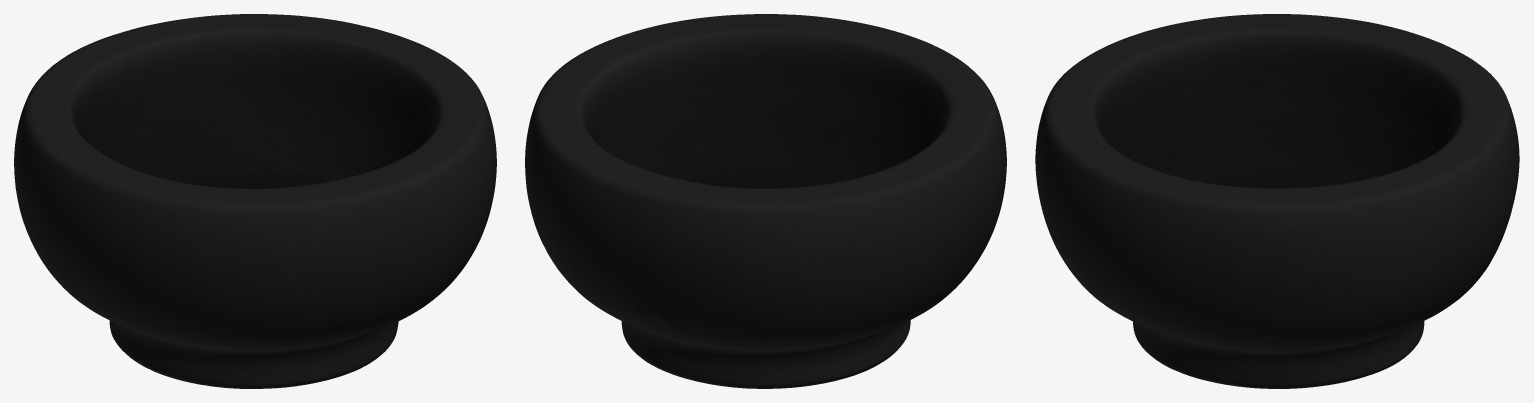
The model's file is lod_basic_pbr.fbx.
The picture shows the model from 3 angles, left to right: view 1: azimuth 30°, elevation 25°; view 2: azimuth 150°, elevation 25°; view 3: azimuth 270°, elevation 25°; orthographic projection.
Visible parts, largest first — view 1: model_LOD0; view 2: model_LOD0; view 3: model_LOD0.
Boxes of the visible parts, <box> form: model_LOD0: <box>14,14,496,388</box>; model_LOD0: <box>525,14,1006,388</box>; model_LOD0: <box>1035,14,1519,388</box>.
Size of what is drawn, in the model's own units: 190 by 96.5 by 189.
1 material, 1 textured.
